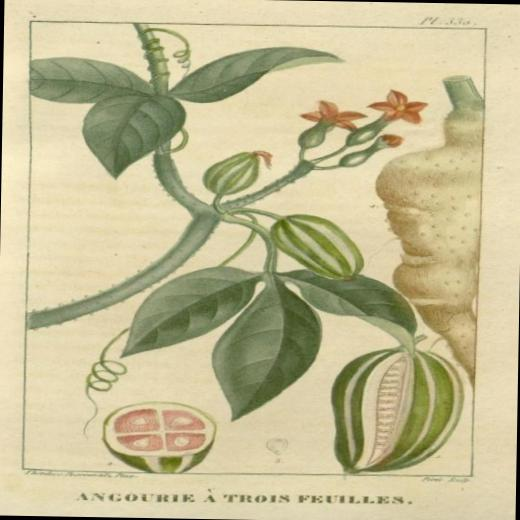Cherry: (330, 334, 460, 479), (104, 400, 214, 476)
